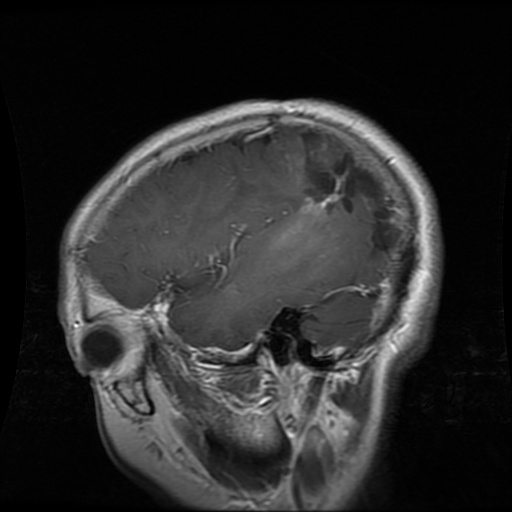glioma: (302, 150, 396, 258)
